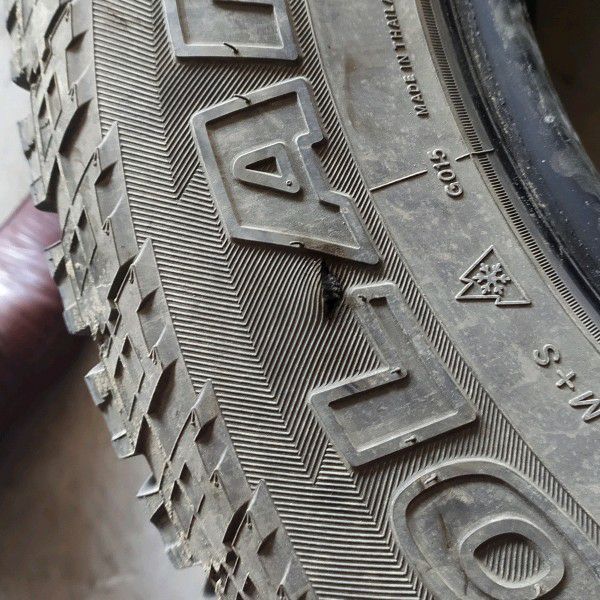cut: (316, 251, 356, 327)
